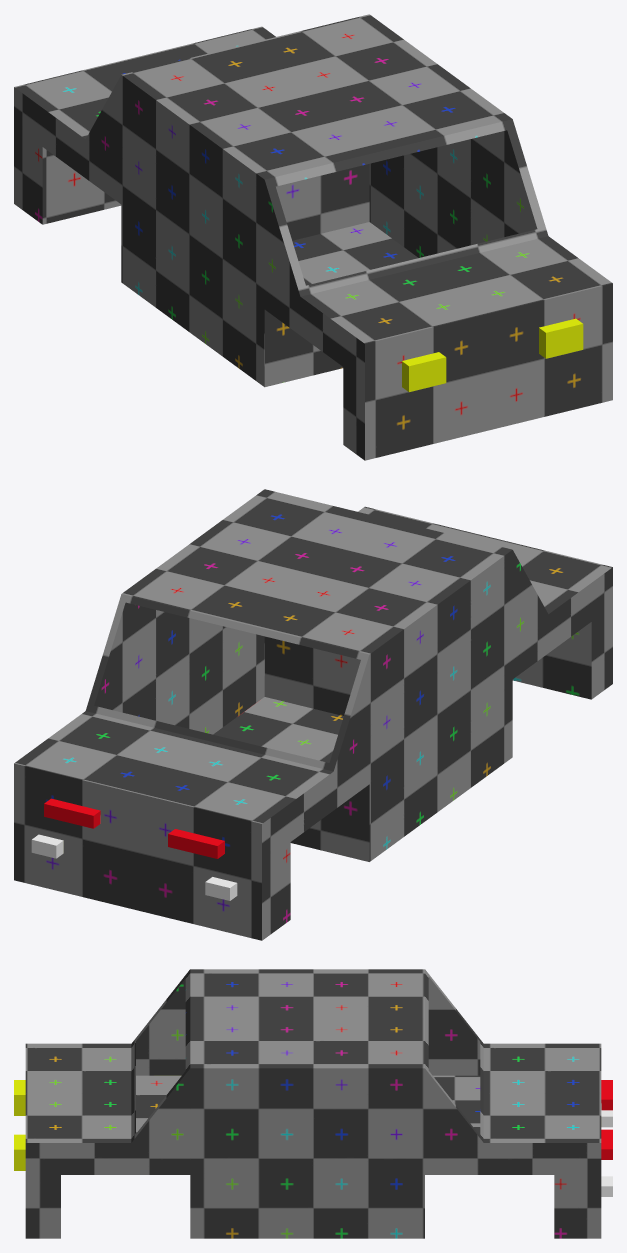
The model's file is sample.obj.
3 views of the same model, one above another, from view 1: azimuth 30°, elevation 25°; view 2: azimuth 150°, elevation 25°; view 3: azimuth 270°, elevation 25° (orthographic). The views are drawn at different scales.
Parts seen in each view (by area): view 1: ボディ, light_head; view 2: ボディ, light_tail, light_reverse; view 3: ボディ, light_head, light_tail, light_reverse.
Boxes of the visible parts, x1,y1,x2,y2 form: ボディ: (14,14,612,460); light_head: (402,318,583,391); ボディ: (14,489,612,940); light_tail: (44,798,224,858); light_reverse: (31,834,237,900); ボディ: (25,969,601,1238); light_head: (14,1080,25,1170); light_tail: (601,1080,612,1159); light_reverse: (601,1110,612,1196).
Size of the model in its own units: 2 by 1.6 by 5.1.
